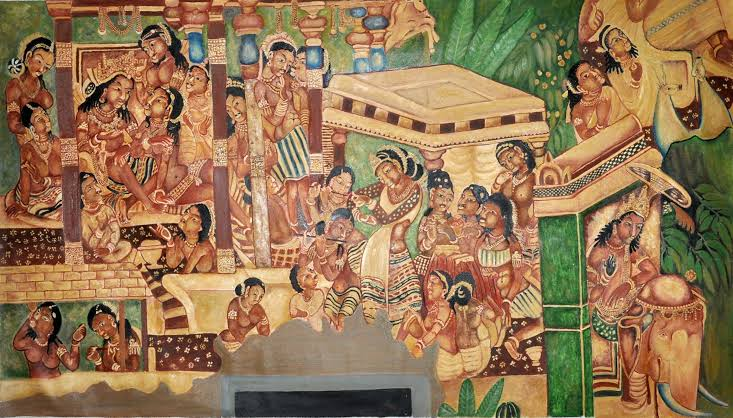Mahajanaka: (19, 7, 708, 399), (182, 40, 621, 367)
